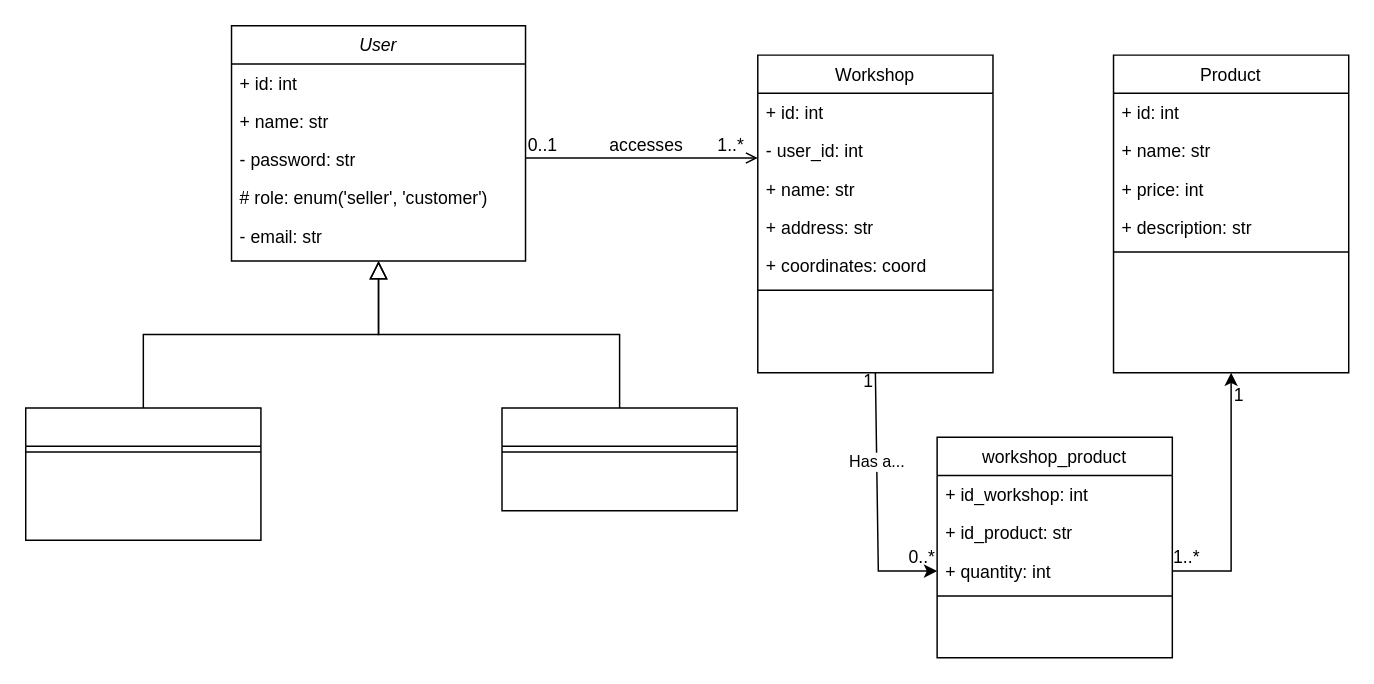
Image size: 1374x684. Some labels were removed from this diagram. The shapes that lost their labels are listed below. From the top down, each one's box as (x1, y1, x2, y2) in pixels, then its label:
(24, 406, 261, 540): Seller
(501, 406, 737, 511): Customer
